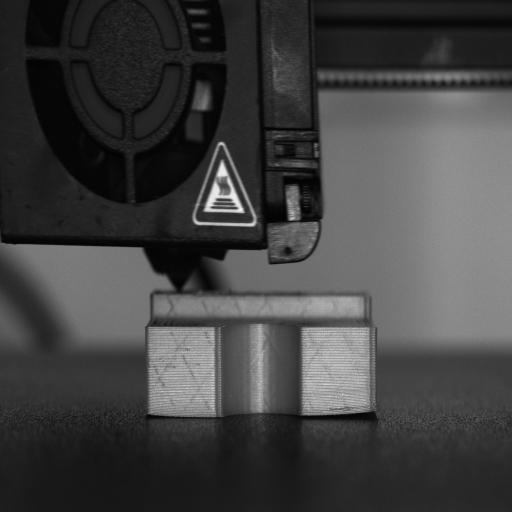warp: (326, 398, 382, 422), (144, 406, 168, 422)
